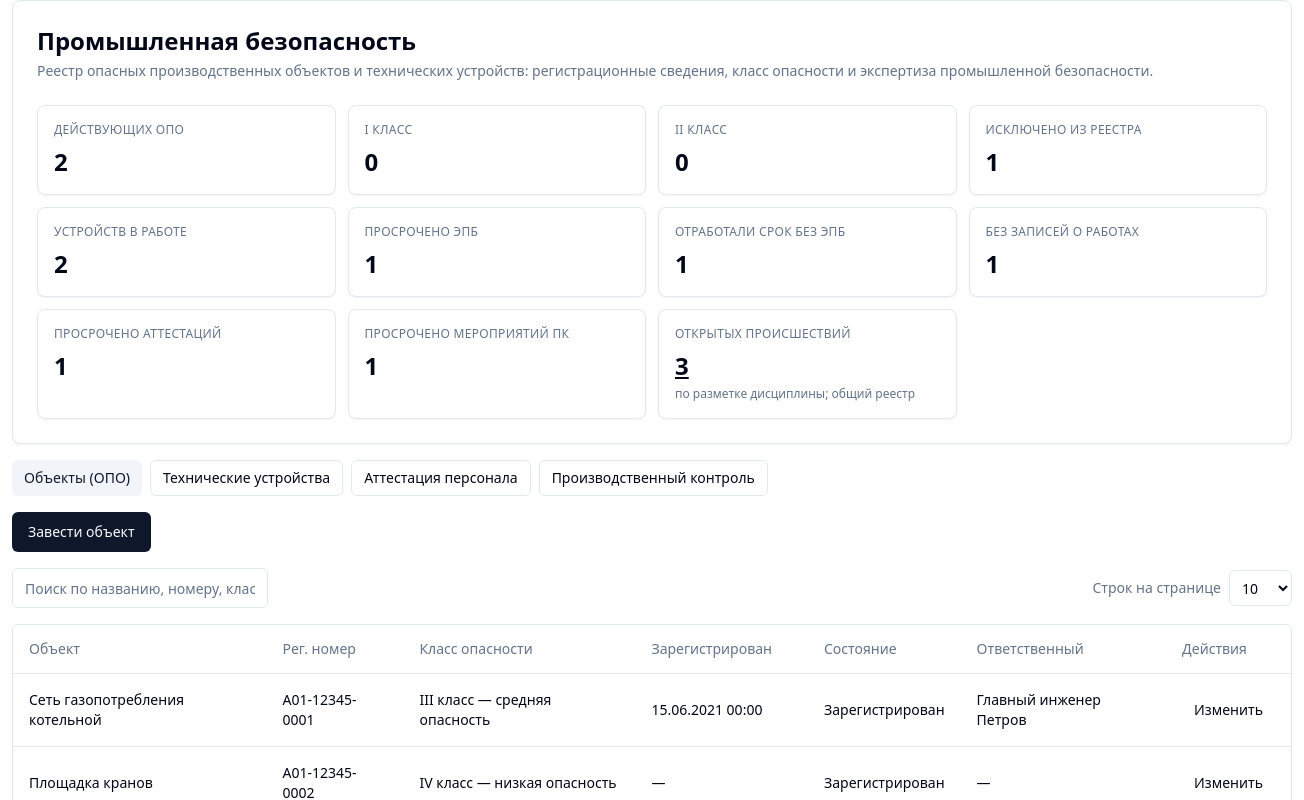
it: IndustrialSafetyPage › экран не выдаёт требование ЭПБ за своё суждение
Expected: the text "Сеть газопотребления котельной" is shown, [13,673,266,746]
Click the button "Технические устройства" at (247, 478), box [150,460,343,496]
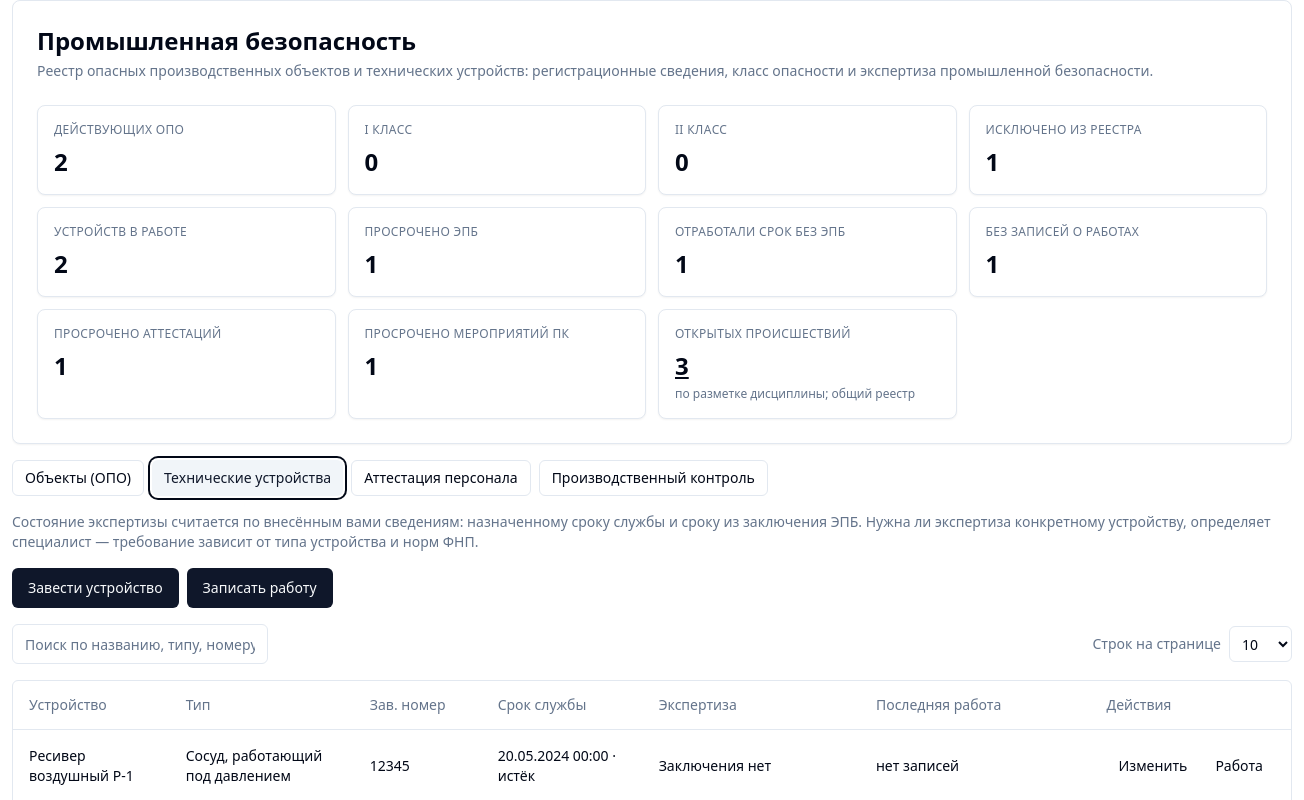
Result: the text "определяет специалист" is shown at [12,512,1271,551]
